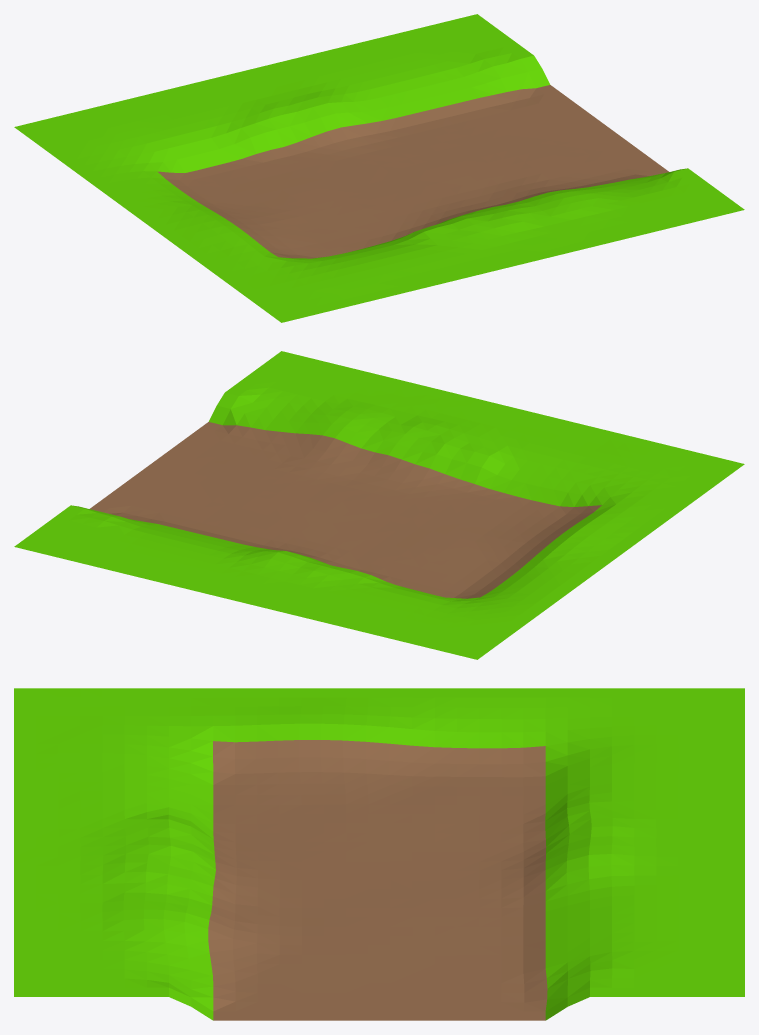
Rendered from Road_5.fbx.
The picture shows the model from 3 angles, top to bottom: view 1: azimuth 30°, elevation 25°; view 2: azimuth 150°, elevation 25°; view 3: azimuth 270°, elevation 25°; orthographic projection. The views are drawn at different scales.
Visible parts, largest first — view 1: Road 5_LOD0; view 2: Road 5_LOD0; view 3: Road 5_LOD0.
Boxes of the visible parts, box(x1,y1,x2,y2) form: Road 5_LOD0: box(14, 14, 744, 322); Road 5_LOD0: box(14, 351, 744, 659); Road 5_LOD0: box(14, 688, 744, 1020).
Size of what is drawn, in the model's own units: 1000 by 44.71 by 1000.
